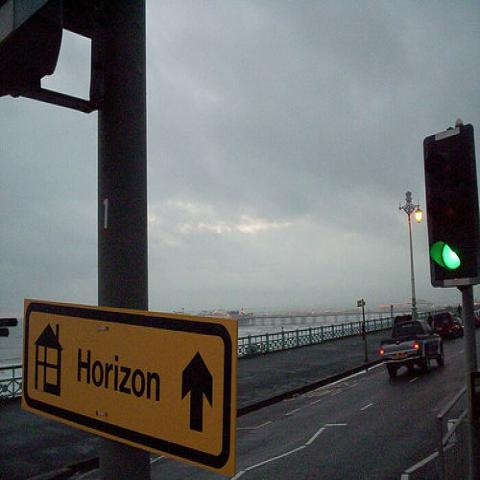car: (380, 318, 445, 385), (434, 313, 464, 340), (474, 311, 480, 328)
truck: (382, 317, 445, 381)
